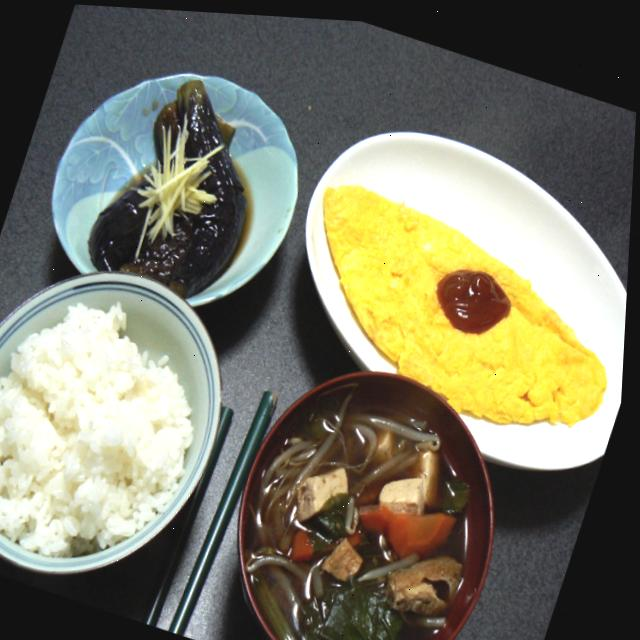米饭主食: (0, 254, 246, 601)
鸡蛋料理: (263, 138, 635, 466)
